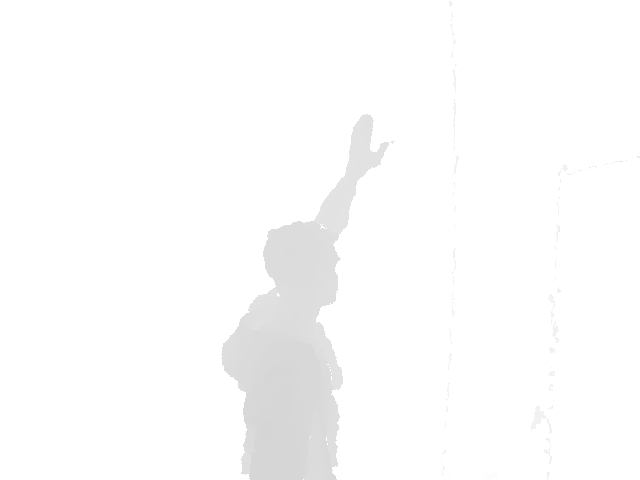hand: (346, 113, 390, 170)
head: (263, 221, 340, 305)
person: (220, 113, 397, 480)
